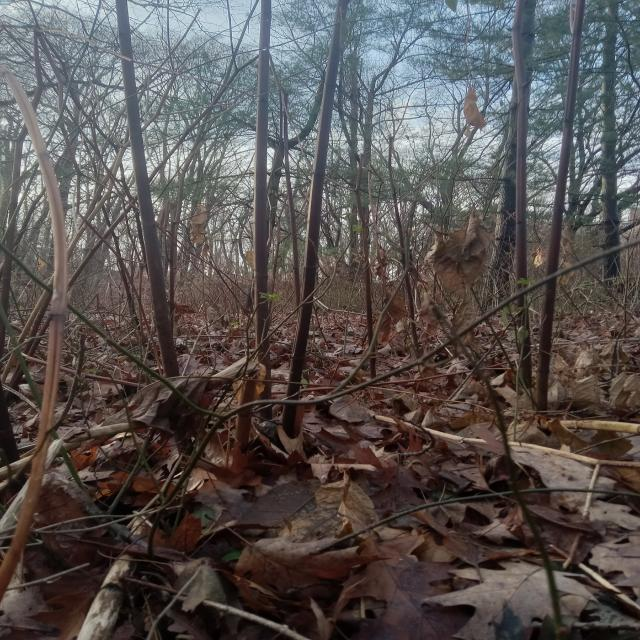bushes: (1, 1, 639, 638)
knotweed-stems: (1, 68, 72, 602), (280, 0, 347, 439), (114, 1, 183, 380), (533, 0, 585, 413)
